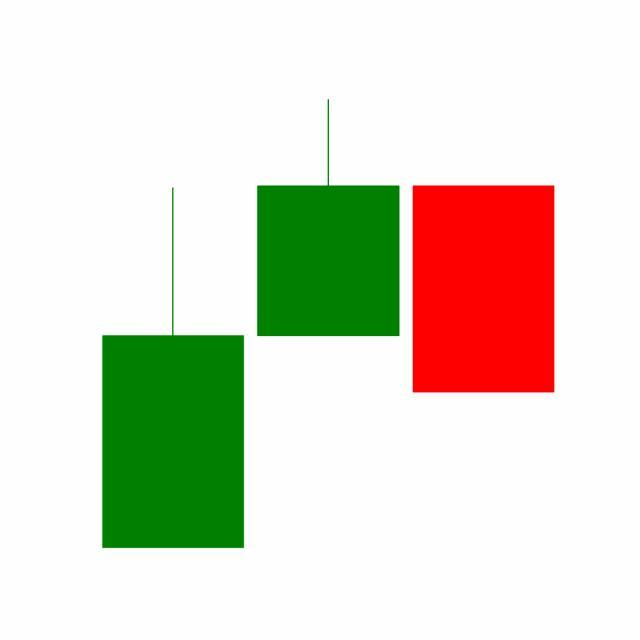Marubozu: (406, 184, 562, 396)
